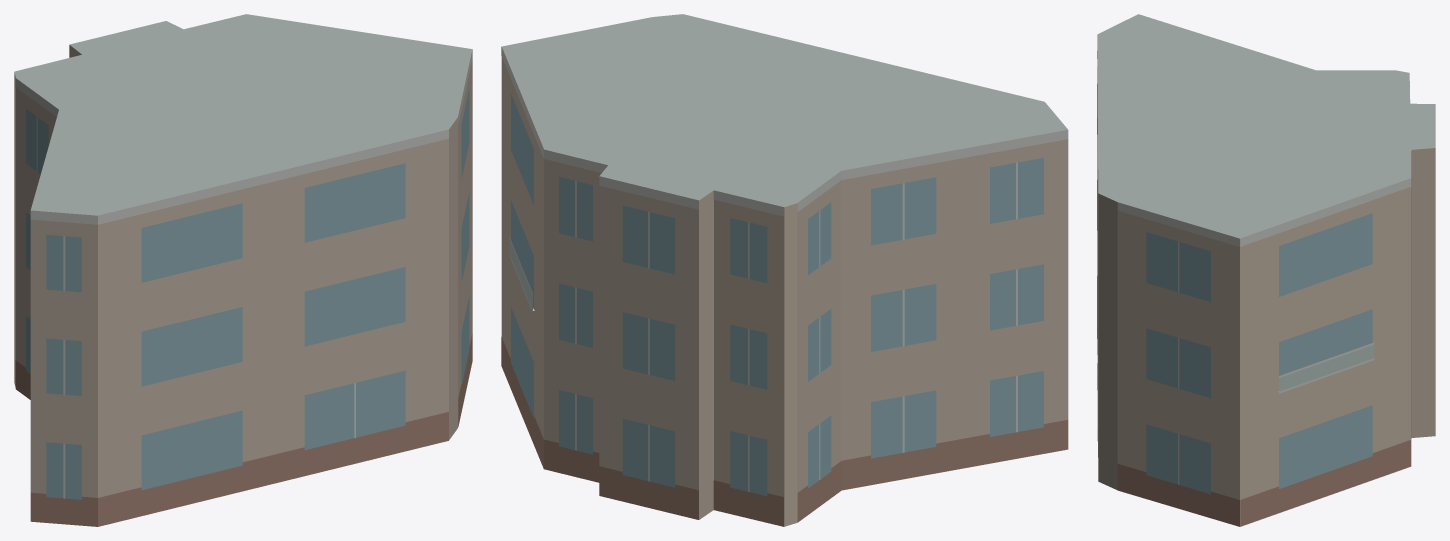
The model's file is survey-upis-32985224.glb.
3 views of the same model, side by side, from view 1: azimuth 30°, elevation 25°; view 2: azimuth 150°, elevation 25°; view 3: azimuth 270°, elevation 25° (orthographic). The views are drawn at different scales.
Parts seen in each view (by area): view 1: survey-upis-32985224.tmp; view 2: survey-upis-32985224.tmp; view 3: survey-upis-32985224.tmp.
Part boxes in pixels (left/top/right/bottom): survey-upis-32985224.tmp: left=14, top=14, right=472, bottom=526; survey-upis-32985224.tmp: left=501, top=14, right=1068, bottom=526; survey-upis-32985224.tmp: left=1097, top=14, right=1435, bottom=526.
Bounding box in the file's own units: 13.96 × 8.35 × 8.9.
